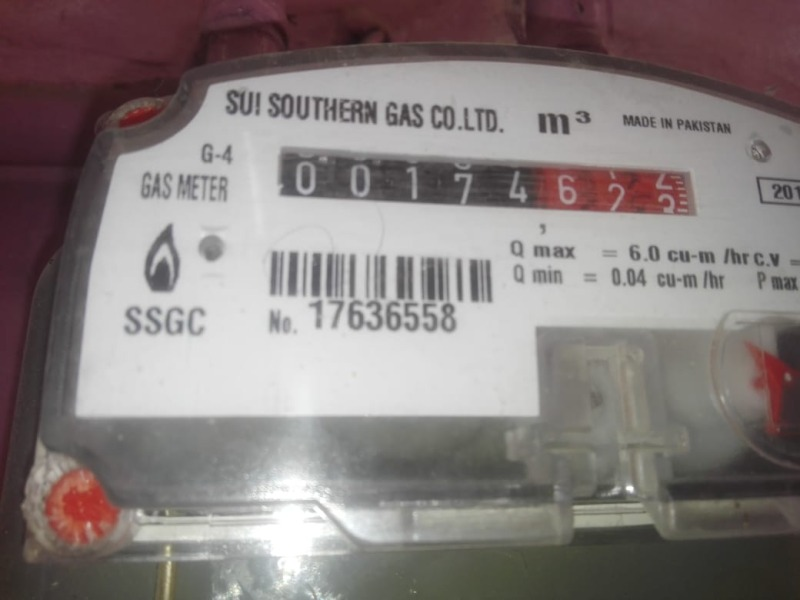ssgc: (274, 139, 698, 219)
